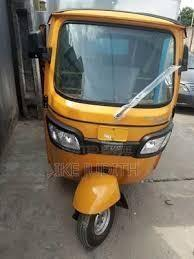keke: (40, 2, 186, 251)
